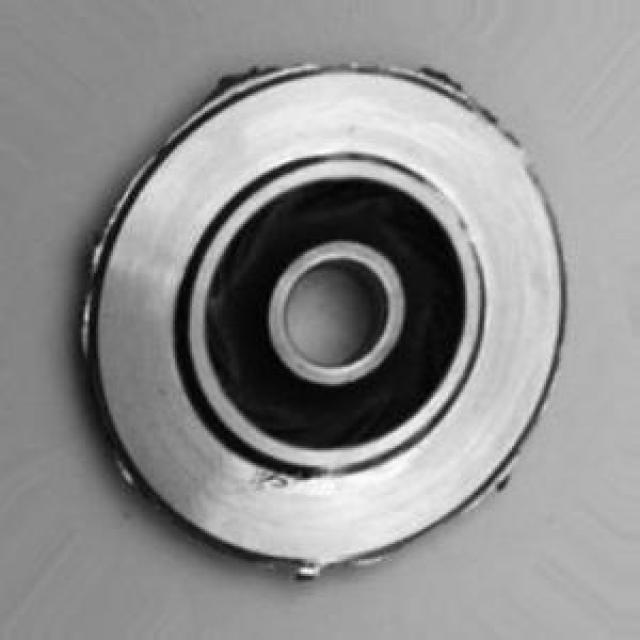Defect: (418, 59, 470, 108)
